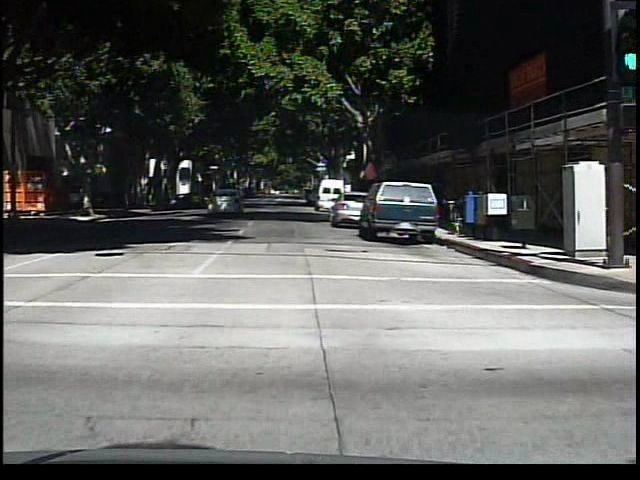person: (69, 184, 85, 219)
